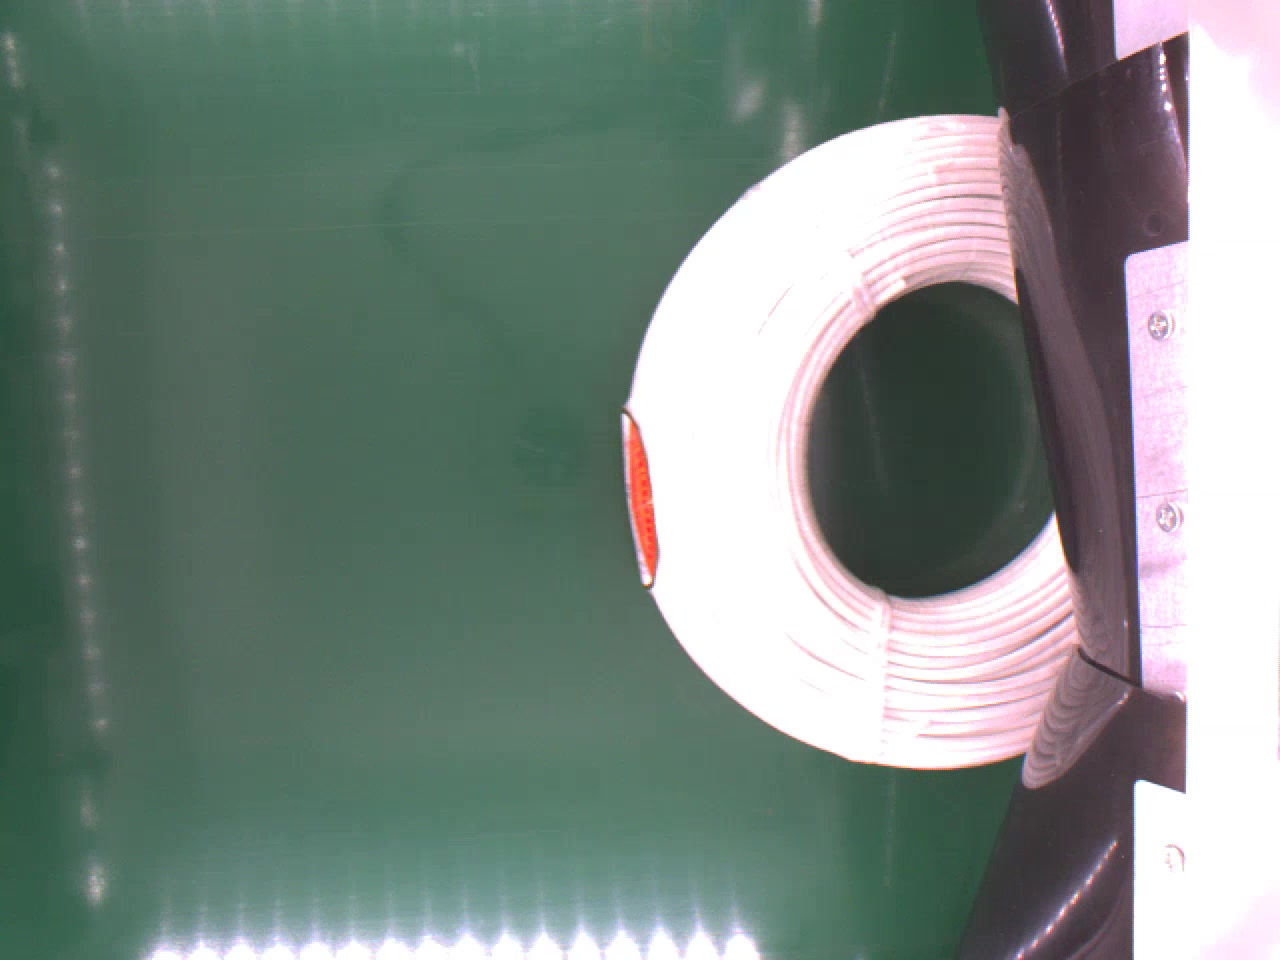white: (620, 113, 1076, 771)
